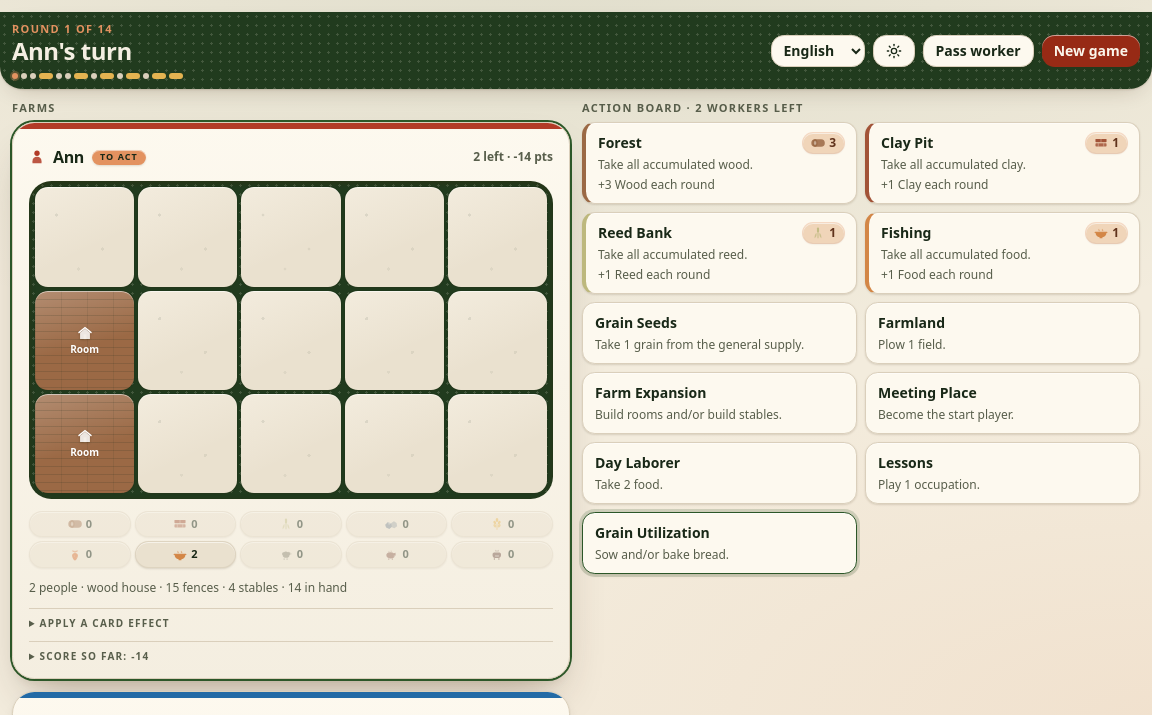
Test case: taking a move back › reverts the move and says so in the log
What coordinates should you click on to do the following:
click the button "Forest 3 Take all accumulated wood. +3 Wood each round"
I would click on:
 (720, 163)
Its box is [582, 122, 857, 204].
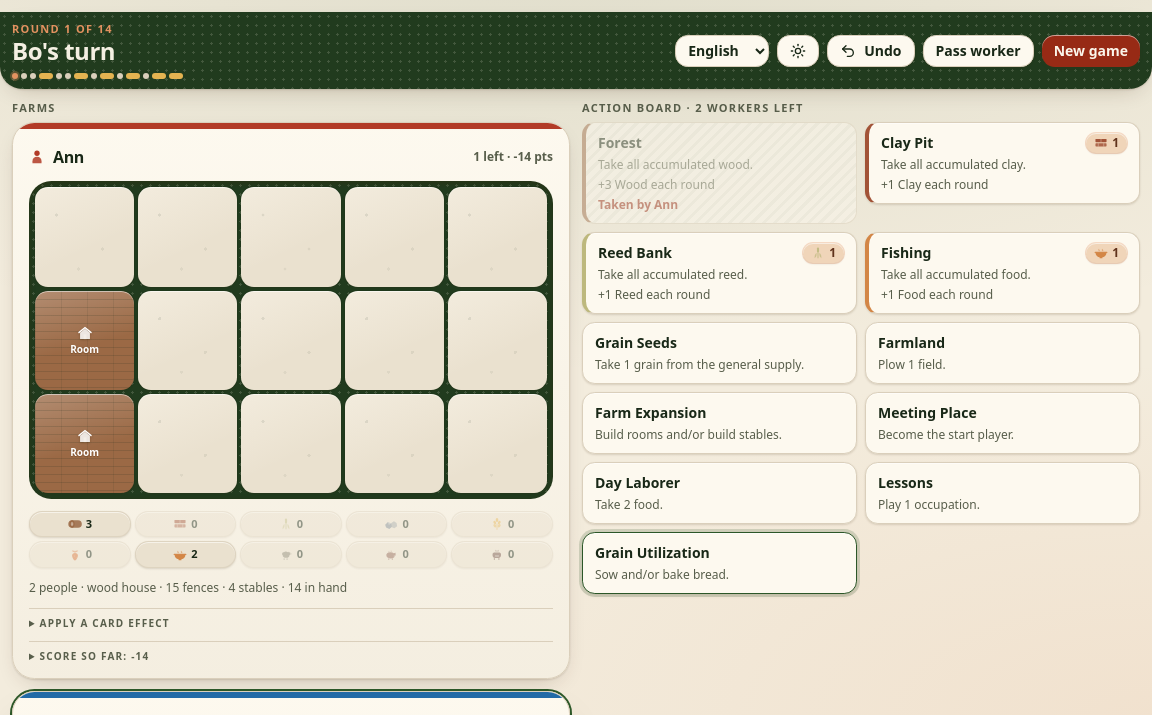
Expected: the button "Forest" is disabled, [582, 122, 857, 224]
What coordinates should you click on to do the following:
click the button "Undo"
I would click on:
 (871, 51)
Its box is [827, 35, 914, 67].
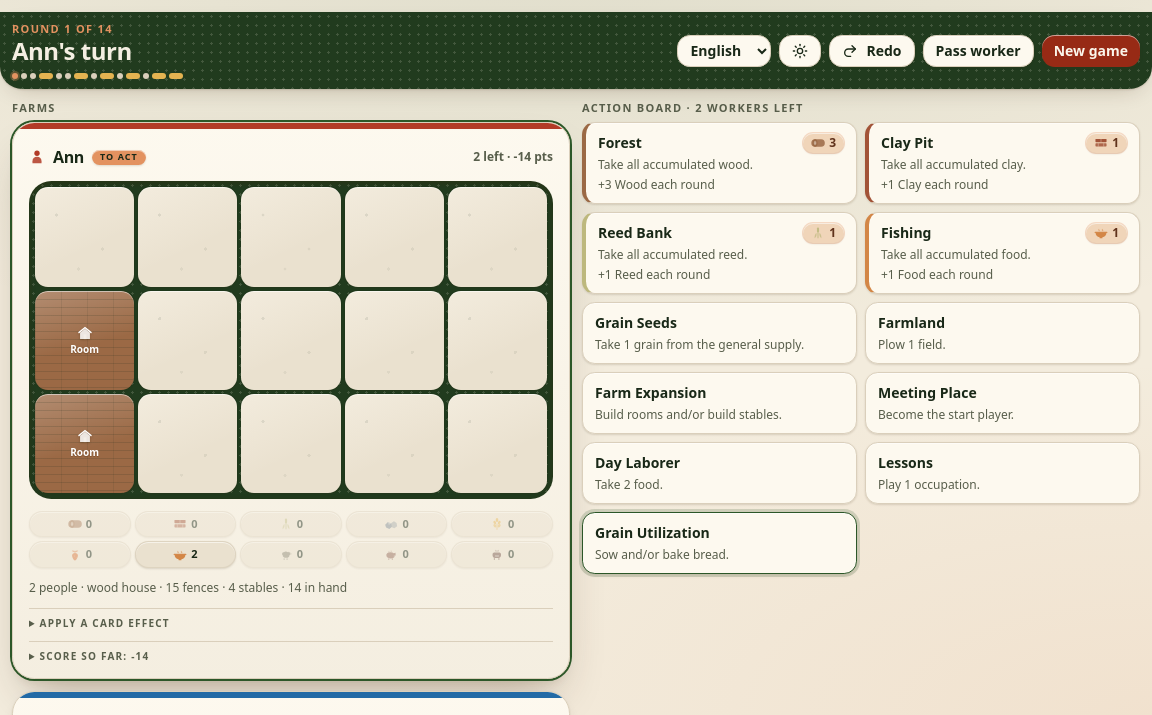
Expected: the button "Forest 3 Take all accumulated wood. +3 Wood each round" is enabled, [582, 122, 857, 204]
Expected: the heading "Ann's turn" is shown, [12, 34, 132, 67]
